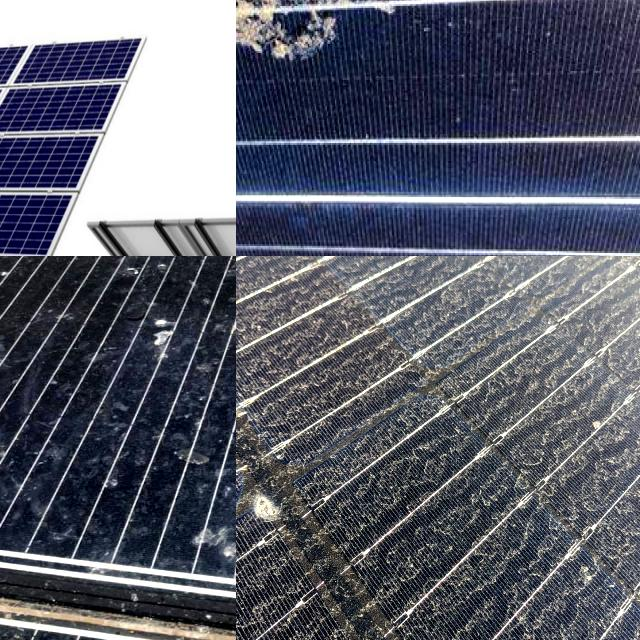bird: (124, 425, 236, 596), (236, 0, 370, 104), (0, 256, 198, 308), (97, 277, 201, 364), (236, 445, 319, 540), (193, 256, 236, 287)
crack: (0, 0, 189, 256)
dust: (302, 286, 475, 534), (506, 424, 640, 611), (531, 256, 640, 386), (236, 256, 308, 416), (236, 596, 405, 640), (305, 256, 494, 286)
